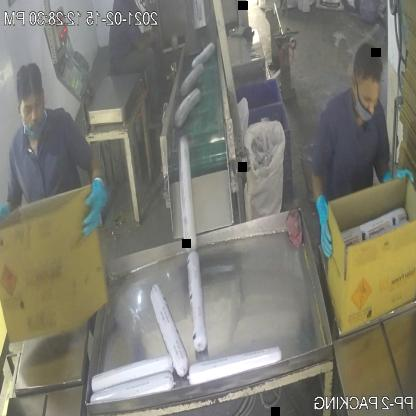glove: (304, 180, 346, 261), (75, 160, 114, 241)
no_glove: (120, 25, 168, 61)
